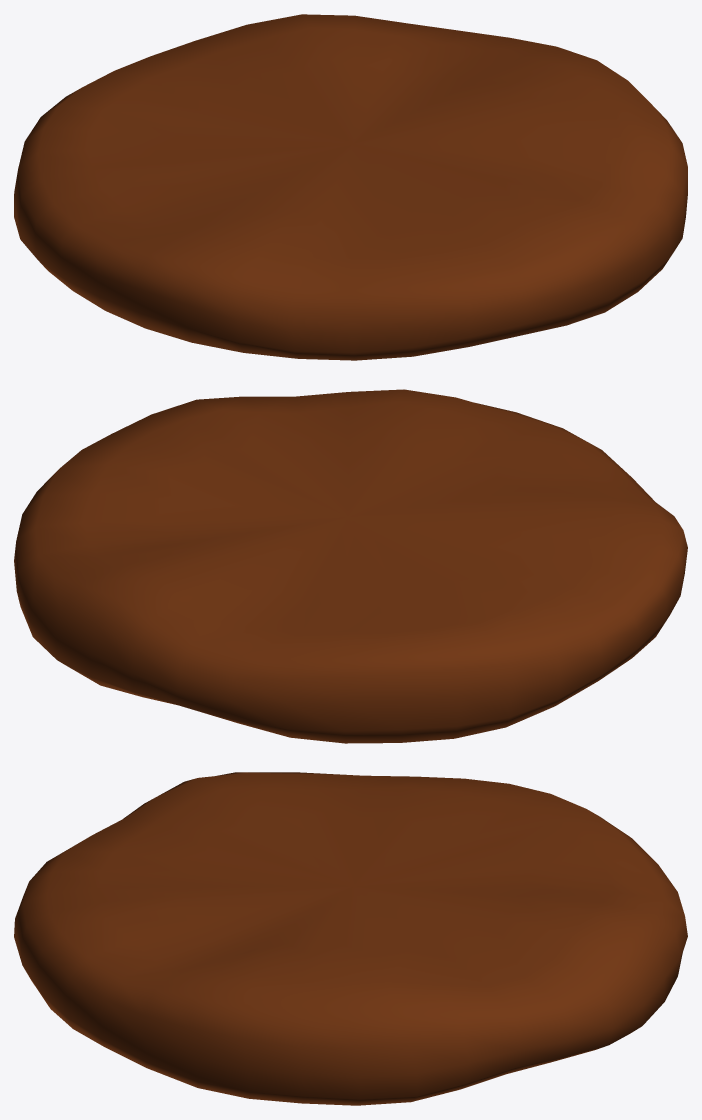
The model's file is Meat.fbx.
3 views of the same model, one above another, from view 1: azimuth 30°, elevation 25°; view 2: azimuth 150°, elevation 25°; view 3: azimuth 270°, elevation 25° (orthographic). The views are drawn at different scales.
Parts seen in each view (by area): view 1: Meat; view 2: Meat; view 3: Meat.
Part boxes in pixels (x1=…): Meat: x1=14, y1=14, x2=687, y2=360; Meat: x1=14, y1=389, x2=687, y2=743; Meat: x1=14, y1=772, x2=687, y2=1105.
Size of the model in its own units: 88.39 by 15.06 by 90.27.
